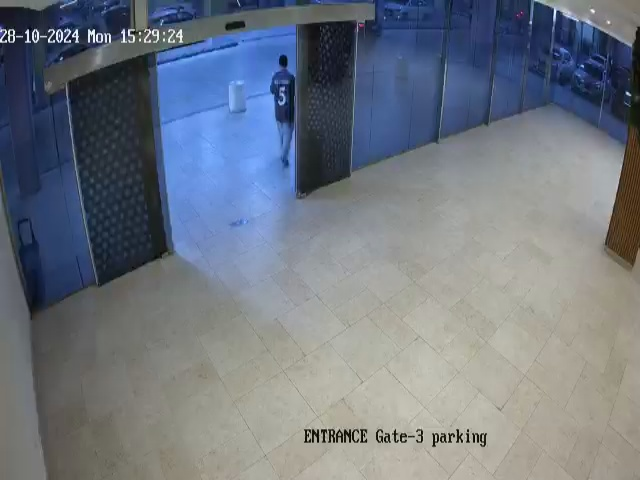male: (270, 54, 296, 168)
